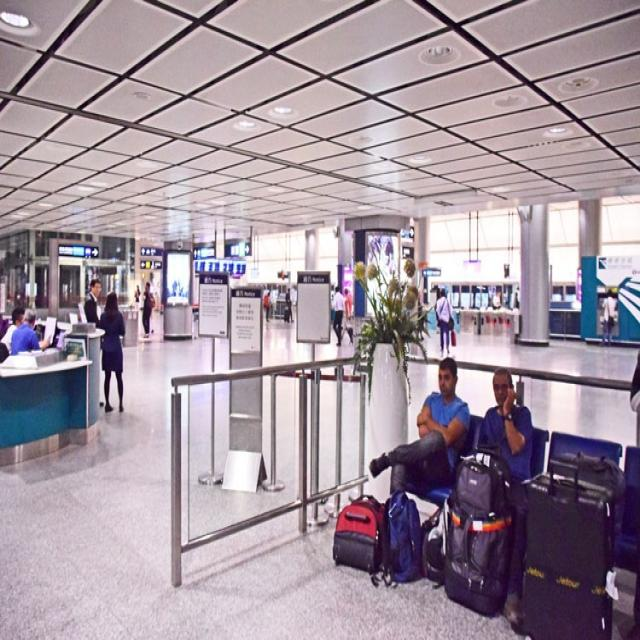body: (475, 365, 534, 628), (367, 354, 471, 496), (626, 324, 639, 639), (99, 290, 126, 414), (83, 276, 105, 408), (9, 305, 52, 357), (433, 286, 454, 358), (0, 304, 27, 357), (596, 287, 617, 349), (328, 284, 346, 348), (141, 282, 155, 341), (341, 286, 352, 341), (262, 288, 274, 324), (510, 290, 523, 322), (284, 287, 294, 325), (133, 284, 142, 312), (492, 288, 502, 310)
